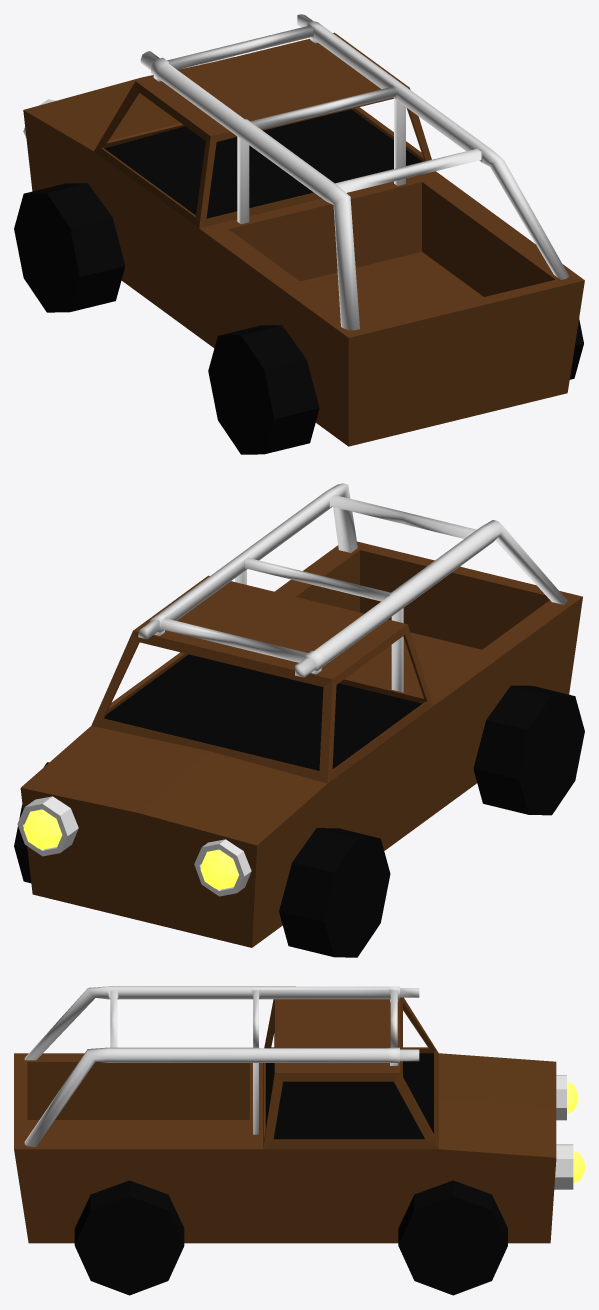
The model's file is Car.glb.
3 views of the same model, one above another, from view 1: azimuth 30°, elevation 25°; view 2: azimuth 150°, elevation 25°; view 3: azimuth 270°, elevation 25° (orthographic). The views are drawn at different scales.
Visible parts, largest first — view 1: Cylinder.005, Cube; view 2: Cylinder.005, Cube; view 3: Cylinder.005, Cube.
Part boxes in pixels (x1,y1,x2,y2): Cylinder.005: (14, 32, 584, 454); Cube: (140, 14, 569, 330); Cylinder.005: (14, 541, 584, 957); Cube: (138, 483, 567, 692); Cylinder.005: (14, 997, 584, 1295); Cube: (24, 986, 419, 1146).
Size of the model in its own units: 4.01 by 3.19 by 7.68.
